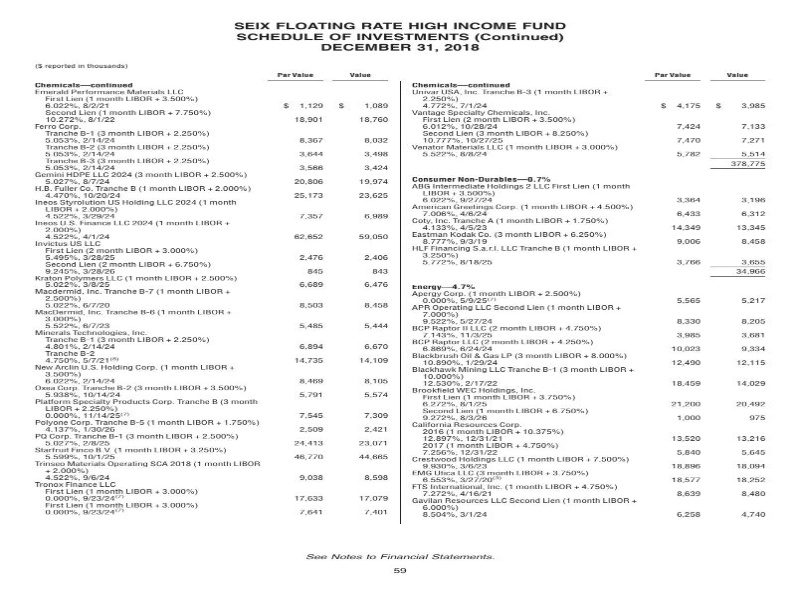table: (22, 56, 407, 535), (394, 66, 788, 533)
